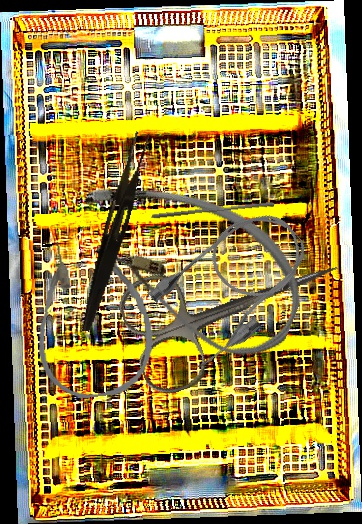Cannula: (51, 158, 323, 372), (139, 193, 328, 376), (26, 232, 160, 403)
Dressing Forceps: (78, 129, 151, 335)
Iris Scissors: (112, 214, 359, 401)
Pusher: (150, 197, 276, 224)
